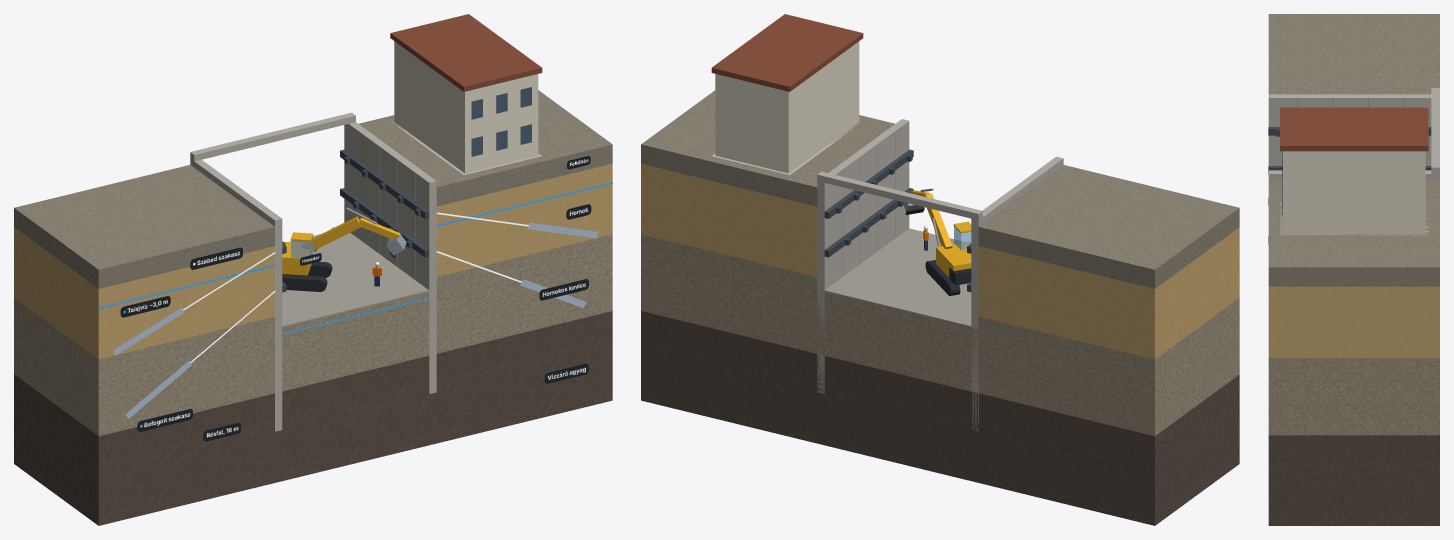
File: munkagodor-feliratok.glb
3 views of the same model, side by side, from view 1: azimuth 30°, elevation 25°; view 2: azimuth 150°, elevation 25°; view 3: azimuth 270°, elevation 25° (orthographic).
Visible parts, largest first — view 1: Vizzaro_agyag, Homokos_kavics (×3), Munkagodor, Homok (×2), Feltoltes (×2), Resfal, Kotro, object 13; view 2: Vizzaro_agyag, Homokos_kavics (×3), Homok (×2), Munkagodor, Feltoltes (×2), Resfal, Kotro; view 3: Feltoltes (×2), Munkagodor, Vizzaro_agyag, Homokos_kavics, Homok, Resfal.
Boxes of the visible parts, left/top/right/bottom form: Vizzaro_agyag: left=14, top=311, right=612, bottom=525; Homokos_kavics (×3): left=14, top=234, right=612, bottom=436; Munkagodor: left=99, top=14, right=612, bottom=418; Homok (×2): left=14, top=163, right=612, bottom=359; Feltoltes (×2): left=14, top=90, right=612, bottom=288; Resfal: left=190, top=122, right=436, bottom=431; Kotro: left=282, top=232, right=332, bottom=291; object 13: left=302, top=216, right=361, bottom=251; Vizzaro_agyag: left=641, top=311, right=1239, bottom=525; Homokos_kavics (×3): left=641, top=234, right=1239, bottom=436; Homok (×2): left=641, top=163, right=1239, bottom=359; Munkagodor: left=711, top=14, right=982, bottom=327; Feltoltes (×2): left=641, top=90, right=1239, bottom=288; Resfal: left=817, top=119, right=1063, bottom=431; Kotro: left=925, top=221, right=971, bottom=295; Feltoltes (×2): left=1268, top=14, right=1439, bottom=286; Munkagodor: left=1268, top=88, right=1439, bottom=244; Vizzaro_agyag: left=1268, top=435, right=1439, bottom=525; Homokos_kavics: left=1268, top=358, right=1439, bottom=435; Homok: left=1268, top=286, right=1439, bottom=357; Resfal: left=1268, top=94, right=1439, bottom=180.
Bounding box in the file's own units: 0.84 × 0.538 × 0.241.
Materials: 84 (17 with a texture image).
